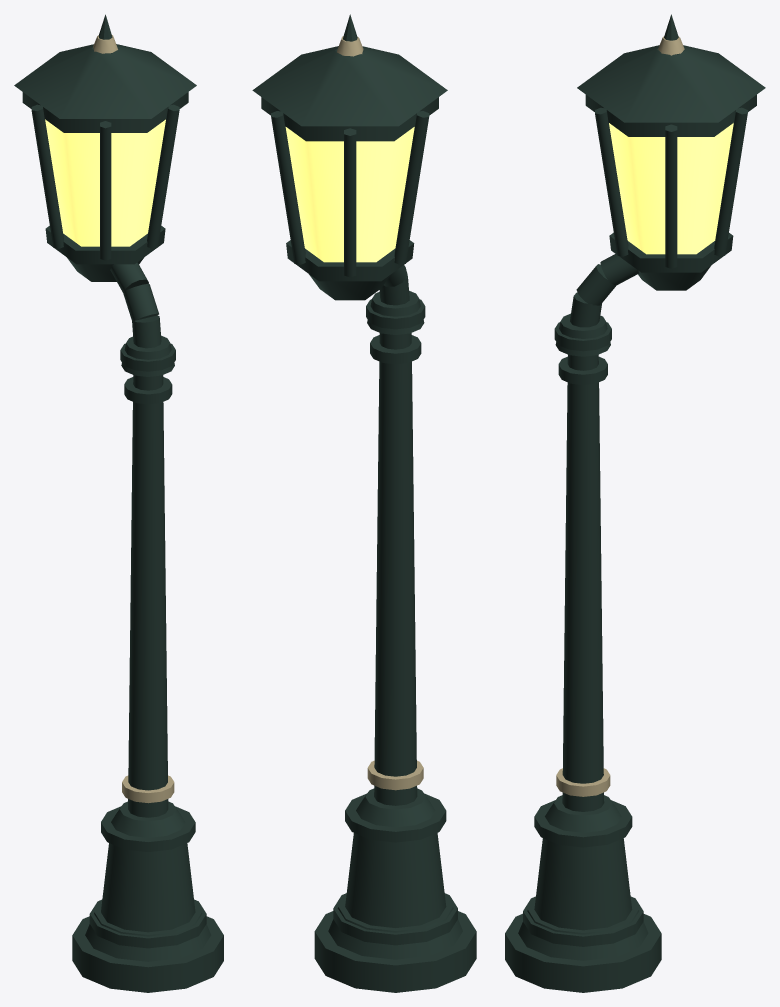
The model's file is planet_lamp.glb.
The picture shows the model from 3 angles, left to right: view 1: azimuth 30°, elevation 25°; view 2: azimuth 150°, elevation 25°; view 3: azimuth 270°, elevation 25°; orthographic projection. The views are drawn at different scales.
Parts seen in each view (by area): view 1: Slender iron shaft, Lantern golden panes, Pitched lantern cap, Turned cast iron base.002, Turned cast iron base, Turned cast iron base.001, Decorative turned collar.001, Lantern lower rim, Lantern upper rim, Lantern iron corner.001, Lantern iron corner.003, Decorative turned collar (+10 smaller); view 2: Slender iron shaft, Lantern golden panes, Pitched lantern cap, Turned cast iron base.002, Turned cast iron base, Turned cast iron base.001, Lantern upper rim, Decorative turned collar.001, Lantern lower rim, Lantern iron corner.003, Lantern iron corner.005, Lantern iron corner.004 (+8 smaller); view 3: Slender iron shaft, Lantern golden panes, Pitched lantern cap, Turned cast iron base.002, Turned cast iron base, Turned cast iron base.001, Lantern upper rim, Decorative turned collar.001, Lantern iron corner.005, Lantern iron corner.001, Lantern lower rim, Lantern iron corner (+10 smaller).
Part boxes in pixels (<box>): Slender iron shaft: <box>128,375,168,817</box>; Lantern golden panes: <box>45,119,165,246</box>; Pitched lantern cap: <box>14,44,196,118</box>; Turned cast iron base.002: <box>101,843,195,932</box>; Turned cast iron base: <box>72,916,223,992</box>; Turned cast iron base.001: <box>85,901,211,961</box>; Decorative turned collar.001: <box>101,806,195,852</box>; Lantern lower rim: <box>45,225,165,264</box>; Lantern upper rim: <box>22,92,188,132</box>; Lantern iron corner.001: <box>147,104,179,248</box>; Lantern iron corner.003: <box>31,104,63,248</box>; Decorative turned collar: <box>89,899,206,948</box>; Slender iron shaft: <box>374,333,417,805</box>; Lantern golden panes: <box>285,127,414,262</box>; Pitched lantern cap: <box>252,46,447,126</box>; Turned cast iron base.002: <box>345,833,446,928</box>; Turned cast iron base: <box>314,911,476,992</box>; Turned cast iron base.001: <box>328,894,462,959</box>; Lantern upper rim: <box>261,97,438,141</box>; Decorative turned collar.001: <box>345,793,446,842</box>; Lantern lower rim: <box>286,240,414,281</box>; Lantern iron corner.003: <box>394,111,429,264</box>; Lantern iron corner.005: <box>271,111,305,264</box>; Lantern iron corner.004: <box>344,128,356,277</box>; Slender iron shaft: <box>562,354,604,811</box>; Lantern golden panes: <box>609,123,733,254</box>; Pitched lantern cap: <box>577,45,765,122</box>; Turned cast iron base.002: <box>534,838,632,930</box>; Turned cast iron base: <box>505,913,661,992</box>; Turned cast iron base.001: <box>518,898,648,960</box>; Lantern upper rim: <box>585,94,756,136</box>; Decorative turned collar.001: <box>534,800,632,847</box>; Lantern iron corner.005: <box>714,107,747,256</box>; Lantern iron corner.001: <box>595,107,628,256</box>; Lantern lower rim: <box>609,232,733,272</box>; Lantern iron corner: <box>665,124,677,268</box>.
Size of the model in its own units: 0.5415 by 3.2 by 0.8.
